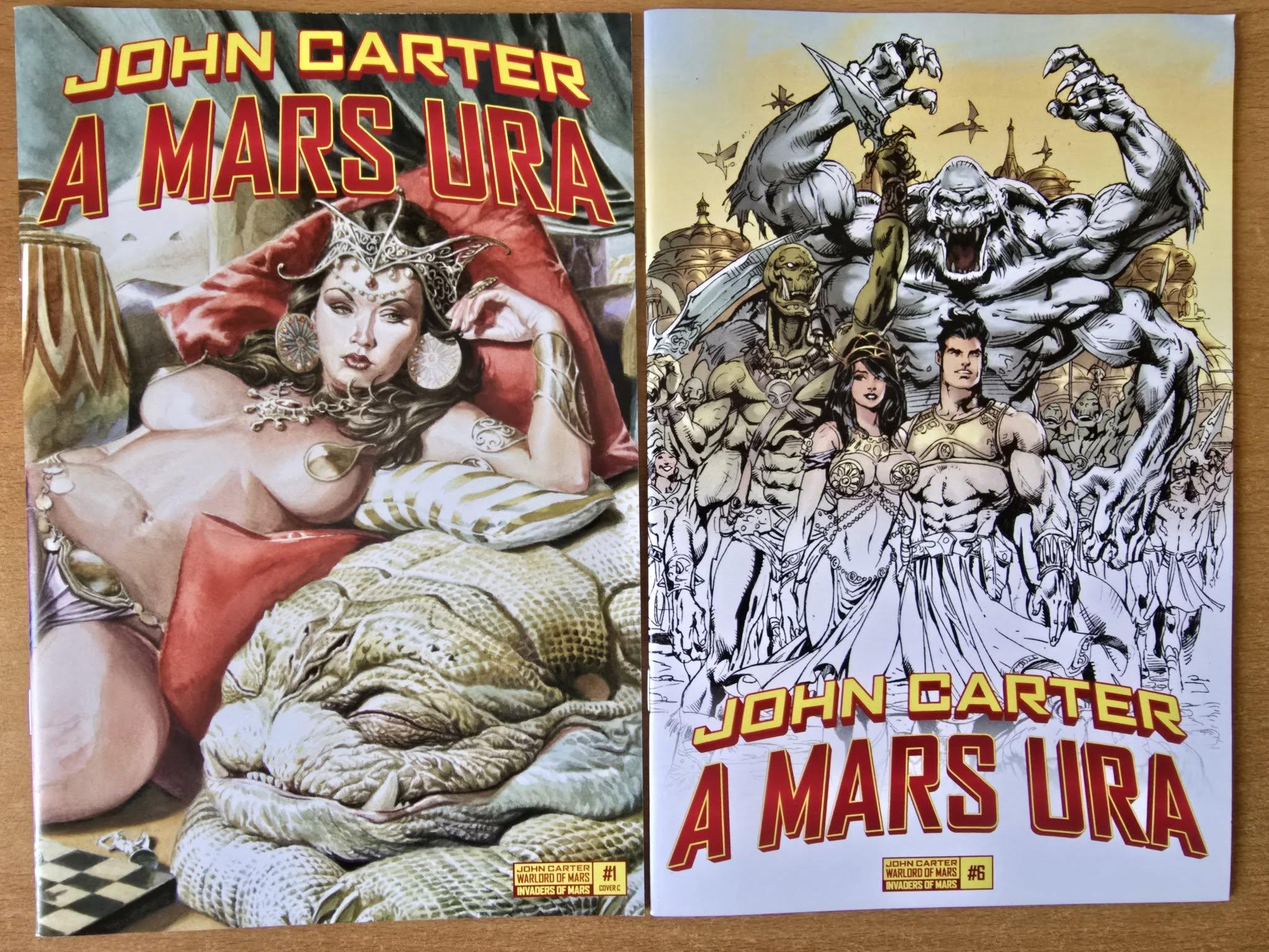comic: (15, 0, 649, 935), (646, 11, 1233, 914)
